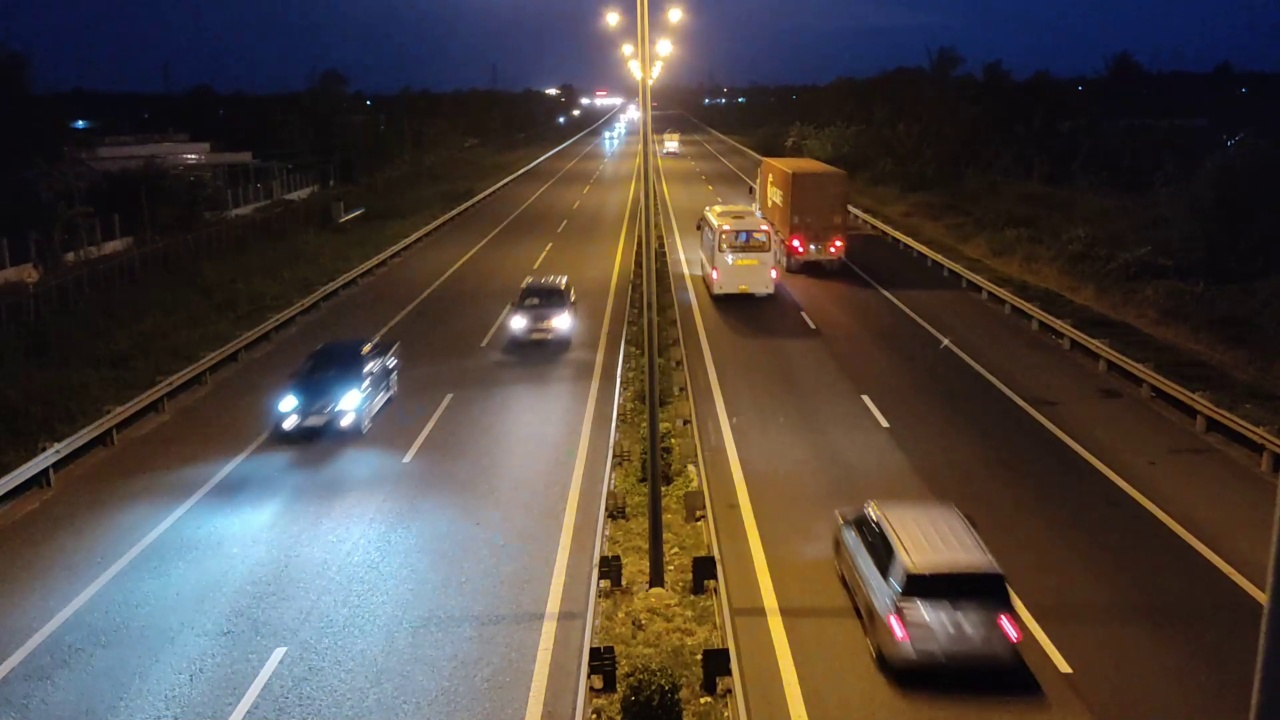bus: (696, 204, 781, 299)
car: (829, 486, 1030, 672), (272, 338, 402, 440), (501, 274, 578, 353)
truck: (755, 156, 849, 274)
